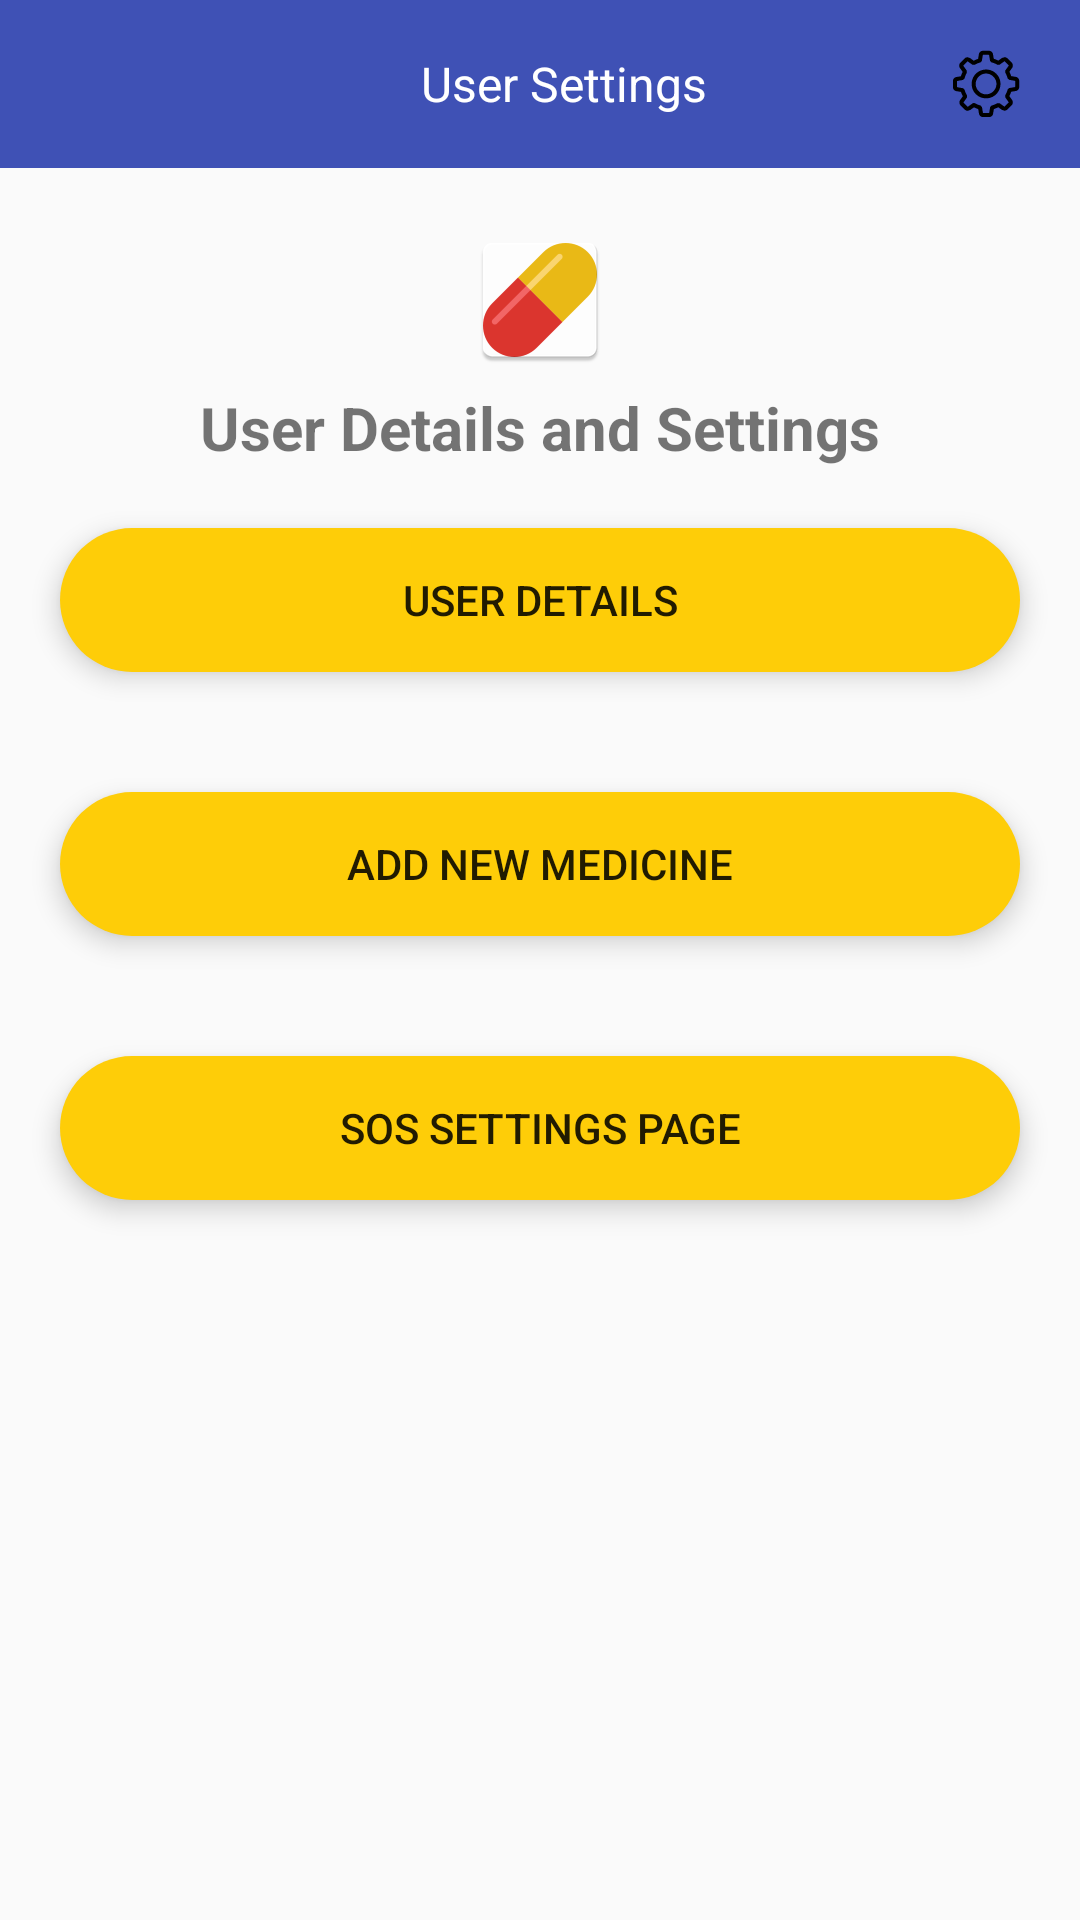

Screen size 1080×1920. Icon name, then its center in pixels as point (x, y):
setting: point (986, 83)
